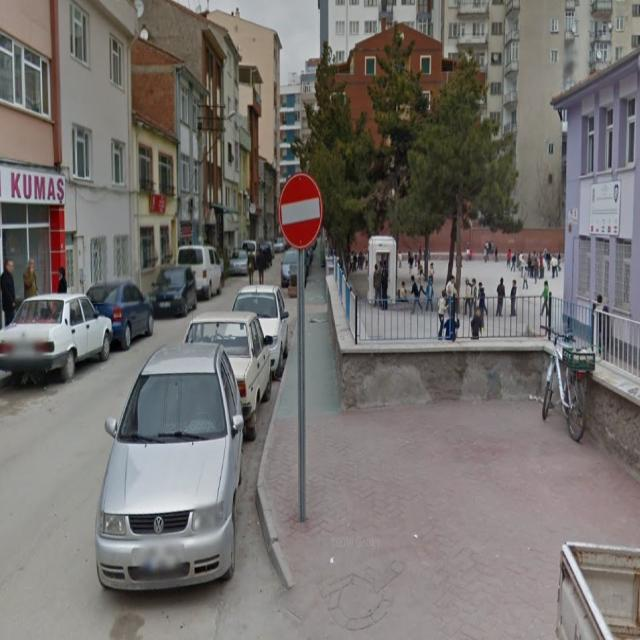girisyok: (277, 173, 322, 247)
